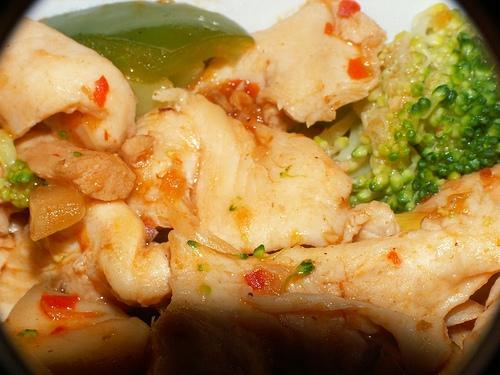bell pepper: (40, 0, 256, 86)
broccoli: (345, 0, 500, 214), (0, 160, 45, 208)
onion: (29, 185, 87, 242)
